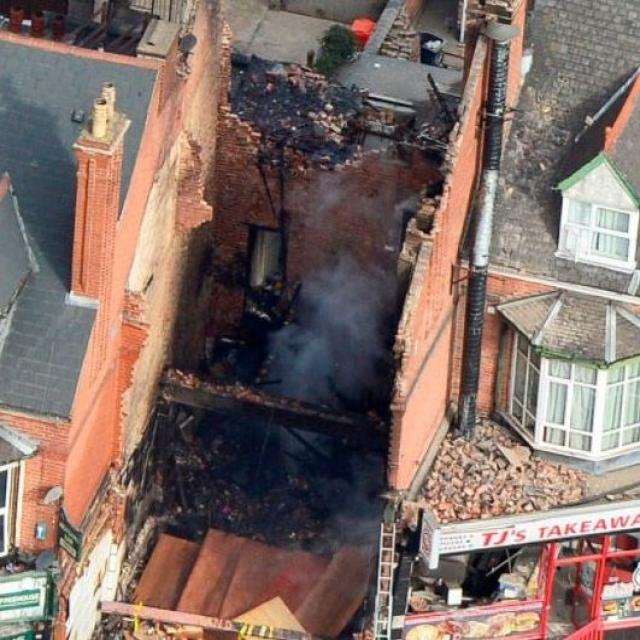collapsed_building: (120, 9, 432, 606)
